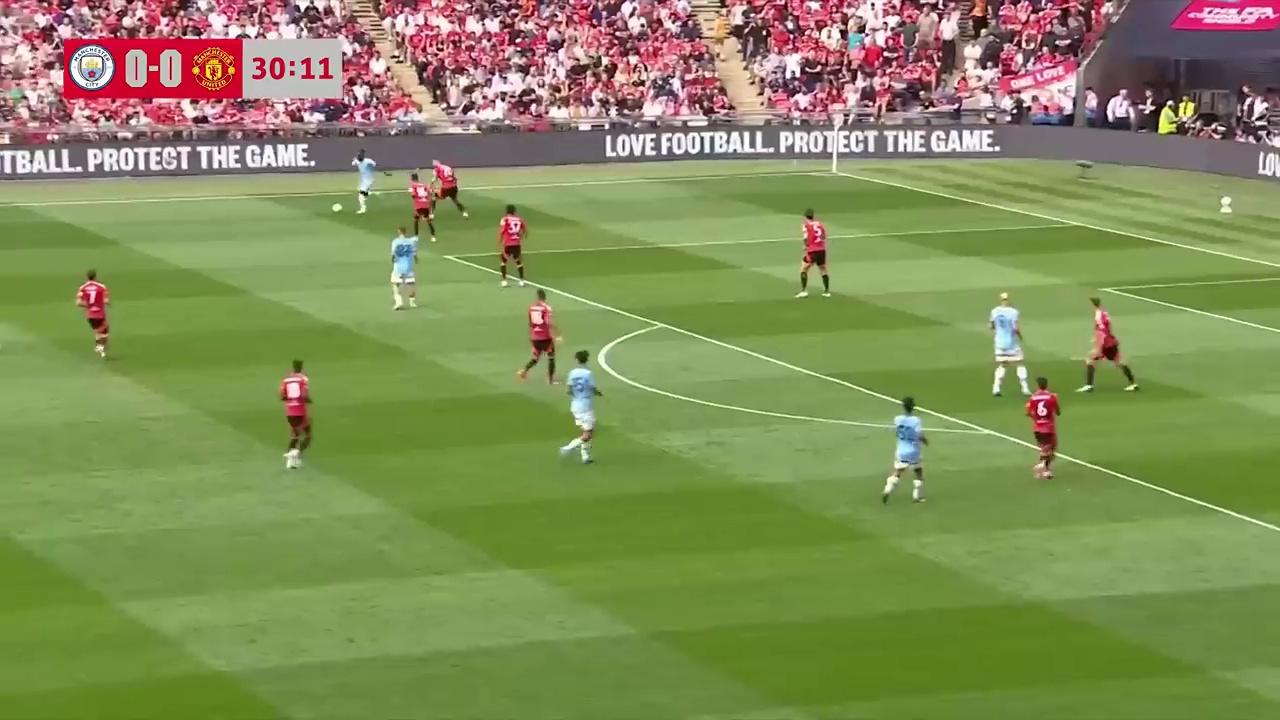ball: (330, 198, 344, 214)
player: (1079, 298, 1138, 393), (881, 397, 929, 507), (561, 350, 603, 464), (516, 290, 562, 385), (987, 293, 1027, 396), (1024, 375, 1060, 480), (279, 359, 312, 470), (75, 269, 110, 359), (797, 210, 831, 299), (496, 204, 528, 286), (390, 224, 419, 311), (430, 160, 468, 220), (408, 175, 437, 242), (353, 151, 376, 214)
